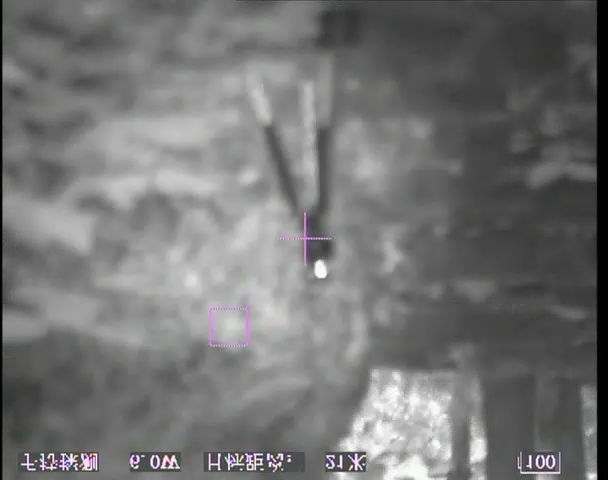my: (308, 257, 332, 282)
